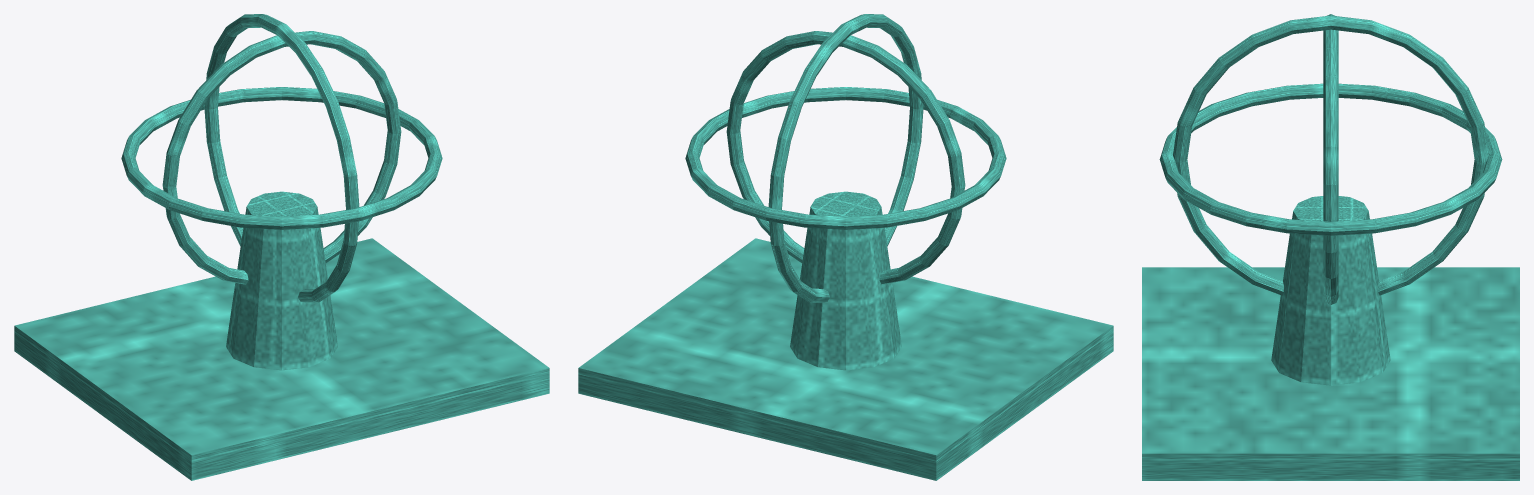
The model's file is jade_observatory_00.glb.
The picture shows the model from 3 angles, left to right: view 1: azimuth 30°, elevation 25°; view 2: azimuth 150°, elevation 25°; view 3: azimuth 270°, elevation 25°; orthographic projection. The views are drawn at different scales.
Parts seen in each view (by area): view 1: Foundation, Pedestal, CelestialRing.002, CelestialRing, CelestialRing.001; view 2: Foundation, Pedestal, CelestialRing.002, CelestialRing, CelestialRing.001; view 3: Foundation, Pedestal, CelestialRing.001, CelestialRing.002, CelestialRing.
Part boxes in pixels (x1=…): Foundation: x1=14, y1=238, x2=549, y2=480; Pedestal: x1=226, y1=191, x2=337, y2=370; CelestialRing.002: x1=121, y1=87, x2=442, y2=229; CelestialRing: x1=162, y1=31, x2=401, y2=284; CelestialRing.001: x1=204, y1=14, x2=359, y2=302; Foundation: x1=578, y1=238, x2=1113, y2=480; Pedestal: x1=790, y1=191, x2=901, y2=370; CelestialRing.002: x1=685, y1=87, x2=1006, y2=229; CelestialRing: x1=726, y1=31, x2=965, y2=284; CelestialRing.001: x1=768, y1=14, x2=923, y2=302; Foundation: x1=1142, y1=267, x2=1519, y2=480; Pedestal: x1=1271, y1=196, x2=1390, y2=385; CelestialRing.001: x1=1173, y1=15, x2=1488, y2=295; CelestialRing.002: x1=1159, y1=83, x2=1502, y2=235; CelestialRing: x1=1323, y1=14, x2=1338, y2=304.
Bounding box in the file's own units: 3.5 × 3.26 × 3.
Materials: 1 (1 with a texture image).
